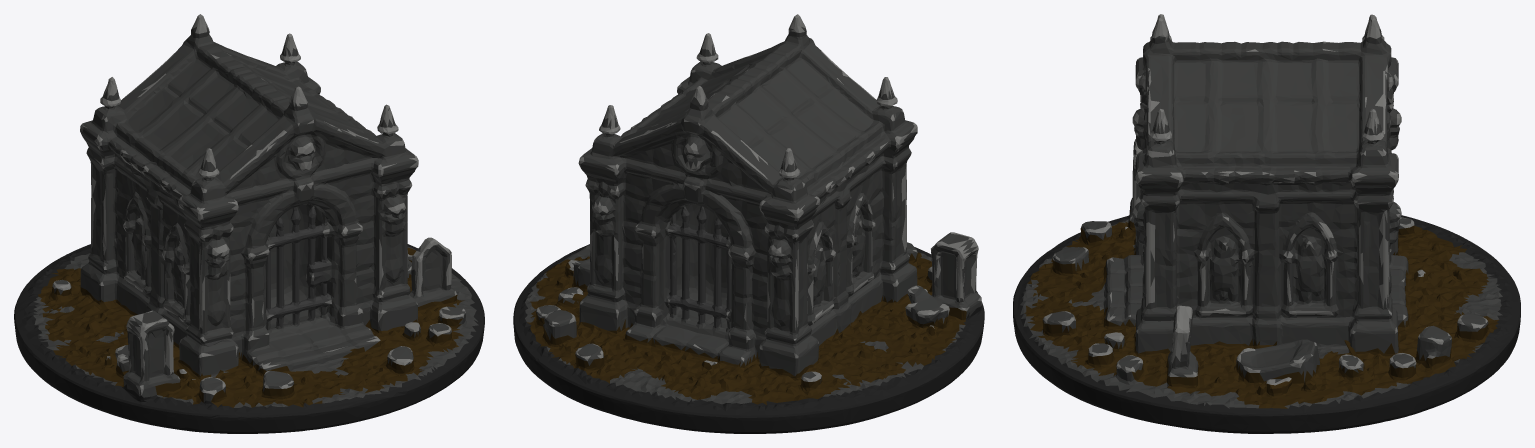
File: cripta.glb
3 renders of one model, left to right at view 1: azimuth 30°, elevation 25°; view 2: azimuth 150°, elevation 25°; view 3: azimuth 270°, elevation 25°, orthographic. The views are drawn at different scales.
Parts seen in each view (by area): view 1: tmpmx1w6djb.ply; view 2: tmpmx1w6djb.ply; view 3: tmpmx1w6djb.ply.
Boxes of the visible parts, x1,y1,x2,y2 form: tmpmx1w6djb.ply: [14, 14, 484, 433]; tmpmx1w6djb.ply: [513, 14, 984, 433]; tmpmx1w6djb.ply: [1013, 14, 1520, 433].
Bounding box in the file's own units: 1.96 × 1.34 × 1.96.
